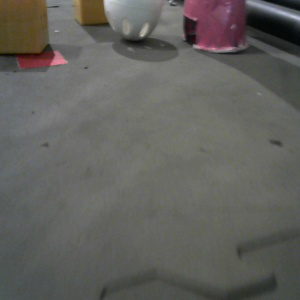right: (182, 1, 249, 54)
